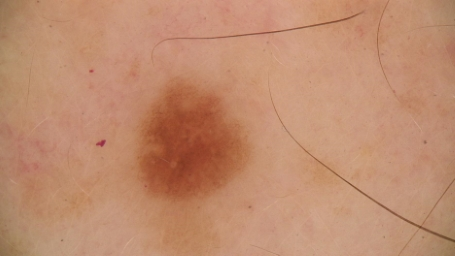melanoma: (135, 76, 254, 203)
